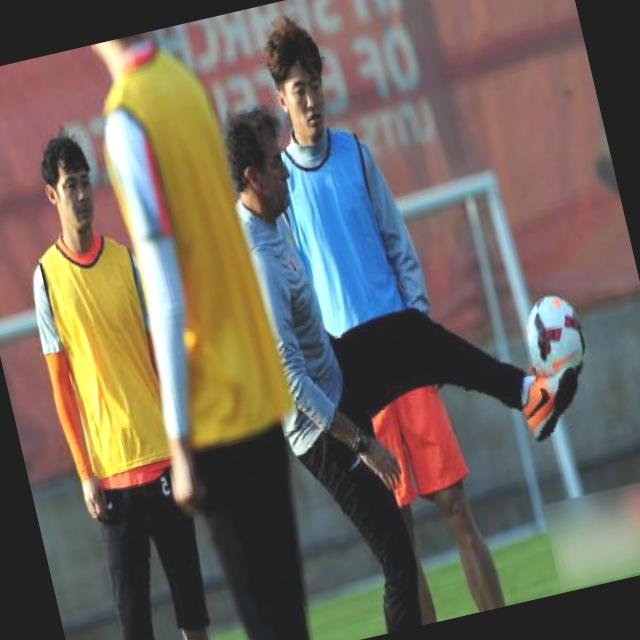Person: (0, 115, 238, 640)
